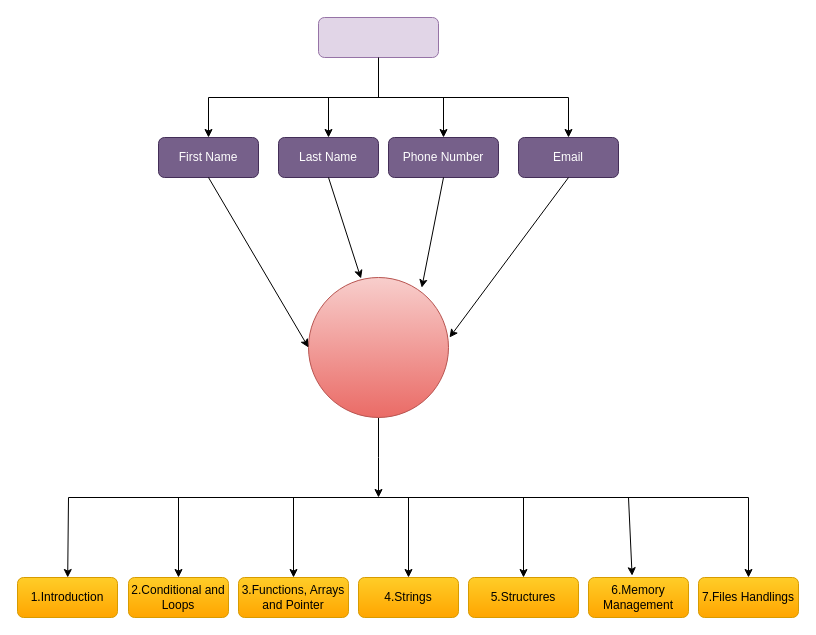
This 816x635 diagram has some shape labels left out. The centre of each missing label's shape, as x and y in pixels:
Select Topics: (378,347)
User Inputs: (378,37)
